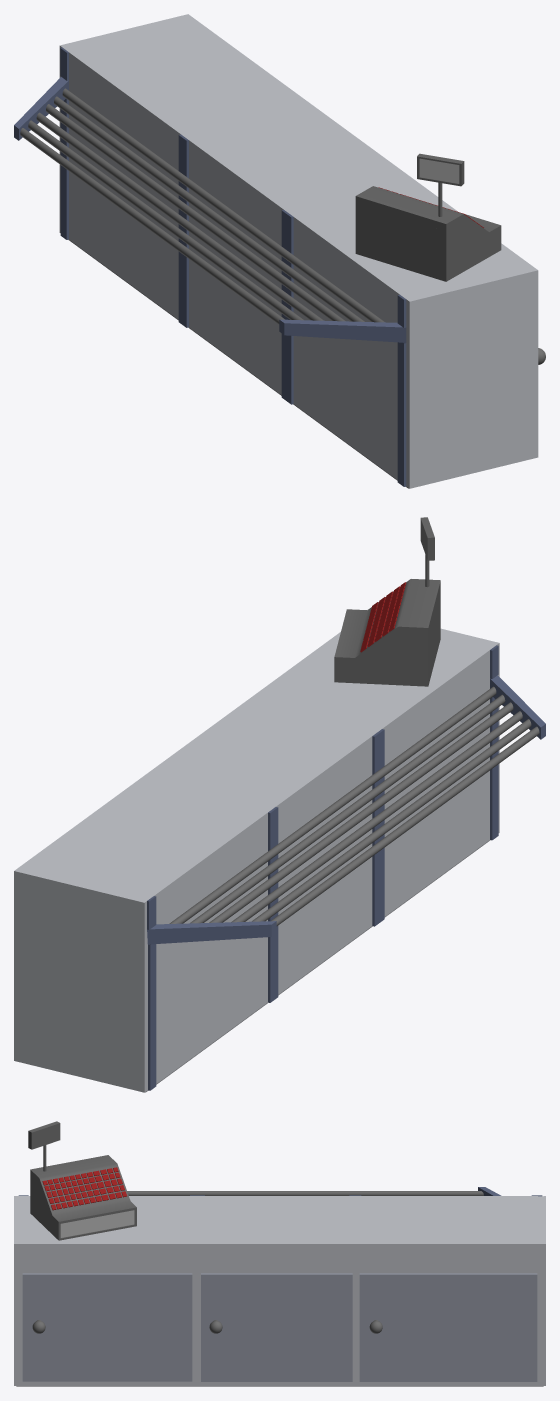
Rendered from Comptoir_Caisse03.fbx.
The picture shows the model from 3 angles, top to bottom: view 1: azimuth 30°, elevation 25°; view 2: azimuth 150°, elevation 25°; view 3: azimuth 270°, elevation 25°; orthographic projection. The views are drawn at different scales.
Parts seen in each view (by area): view 1: ComptoirCaisse3; view 2: ComptoirCaisse3; view 3: ComptoirCaisse3, Porte03, Porte01, Porte02.
Boxes of the visible parts, x1,y1,x2,y2 form: ComptoirCaisse3: (14,14,538,488); ComptoirCaisse3: (14,517,545,1092); ComptoirCaisse3: (14,1121,545,1386); Porte03: (359,1273,537,1381); Porte01: (22,1273,192,1381); Porte02: (201,1273,352,1381).
Bounding box in the file's own units: 6.23 × 7.62 × 15.92.
